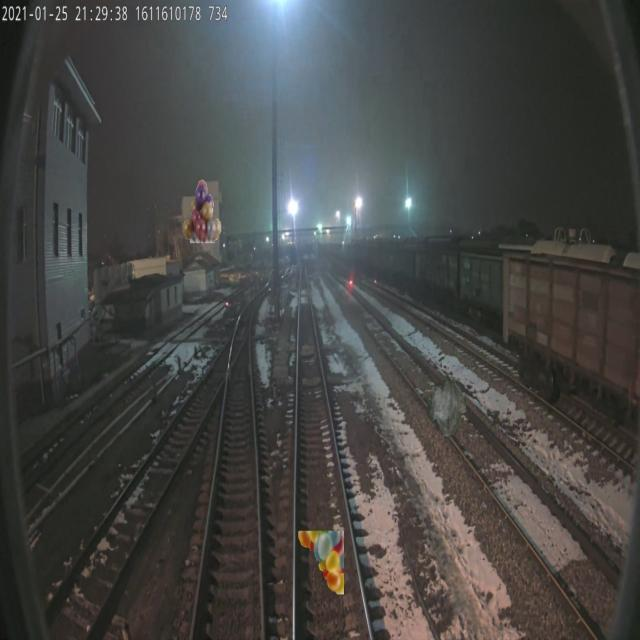balloon: (297, 530, 343, 594), (182, 179, 222, 243)
plastic bag: (427, 373, 468, 438)
